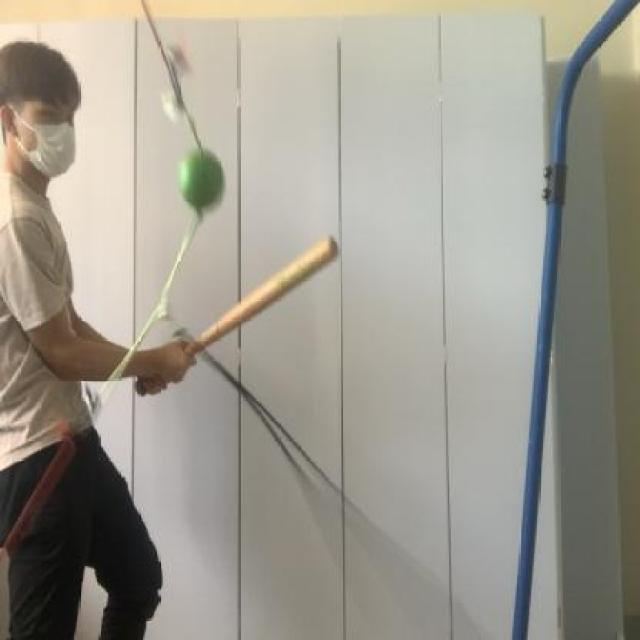baseball: (178, 133, 224, 216)
